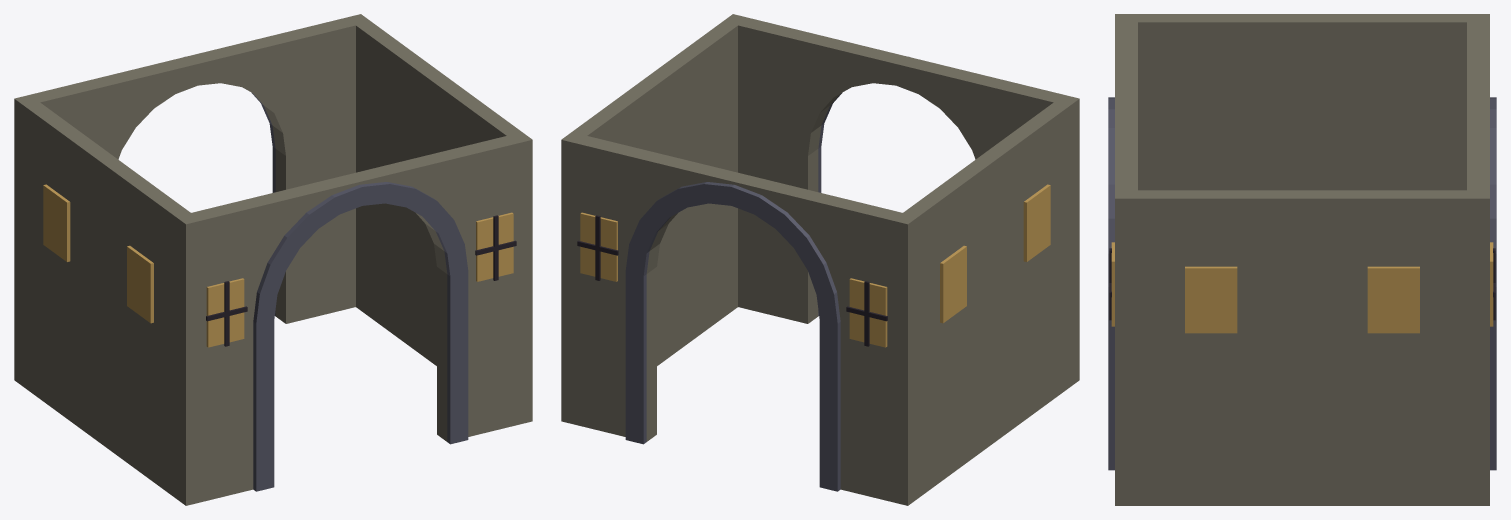
Rendered from HauntedWoods_ManorGatehouse_Simple.glb.
3 renders of one model, left to right at view 1: azimuth 30°, elevation 25°; view 2: azimuth 150°, elevation 25°; view 3: azimuth 270°, elevation 25°, orthographic. The views are drawn at different scales.
Visible parts, largest first — view 1: HauntedWoods_ManorGatehouse_Simple; view 2: HauntedWoods_ManorGatehouse_Simple; view 3: HauntedWoods_ManorGatehouse_Simple.
Boxes of the visible parts, x1=… form: HauntedWoods_ManorGatehouse_Simple: x1=14, y1=14, x2=532, y2=505; HauntedWoods_ManorGatehouse_Simple: x1=561, y1=14, x2=1079, y2=505; HauntedWoods_ManorGatehouse_Simple: x1=1108, y1=14, x2=1496, y2=505.
Bounding box in the file's own units: 6.82 × 5.2 × 5.95.
